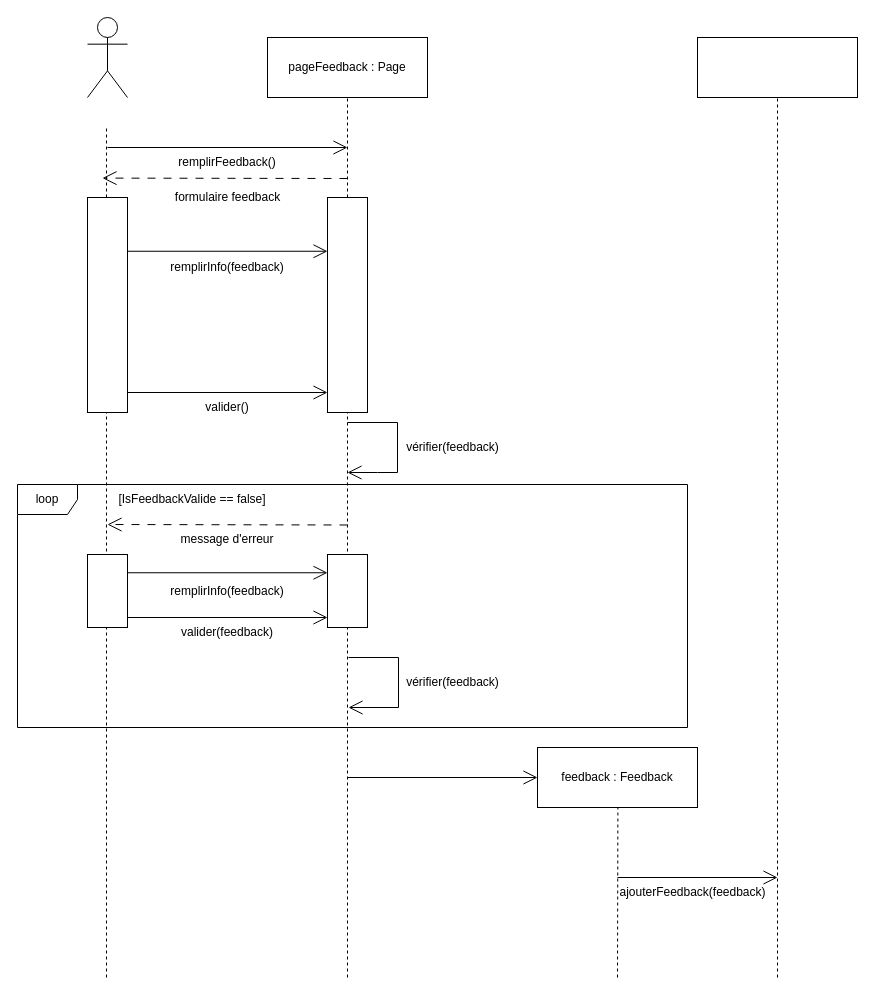
Image size: 875x996. Some labels were removed from this diagram. Each missing label, with the centre of its shape:
": Utilisateur" belongs at [107,57].
"demande : DemandeAide" belongs at [777,67].
